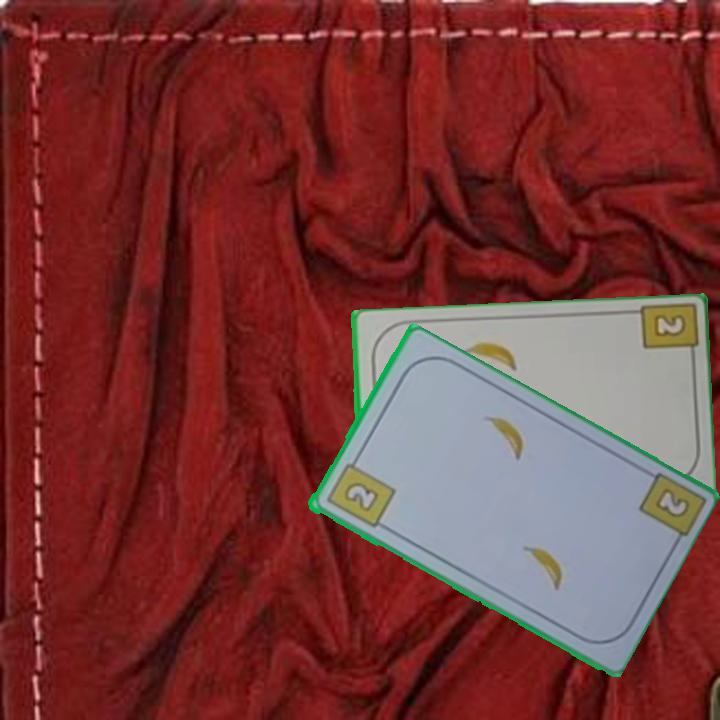2b: (322, 452, 398, 531), (651, 484, 693, 522), (649, 311, 689, 340)
